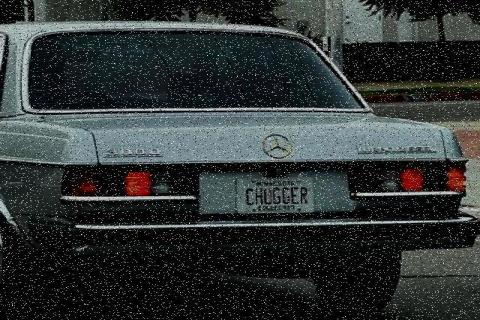LicensePlate: (234, 176, 313, 213)
